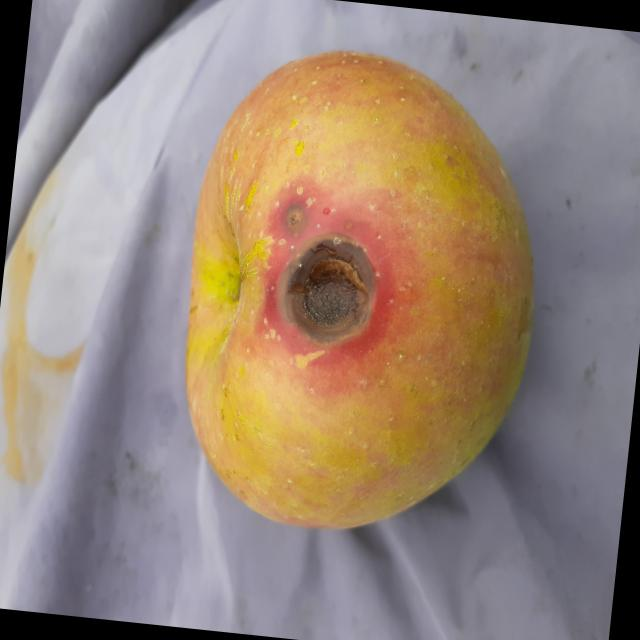rotten: (158, 27, 569, 565)
